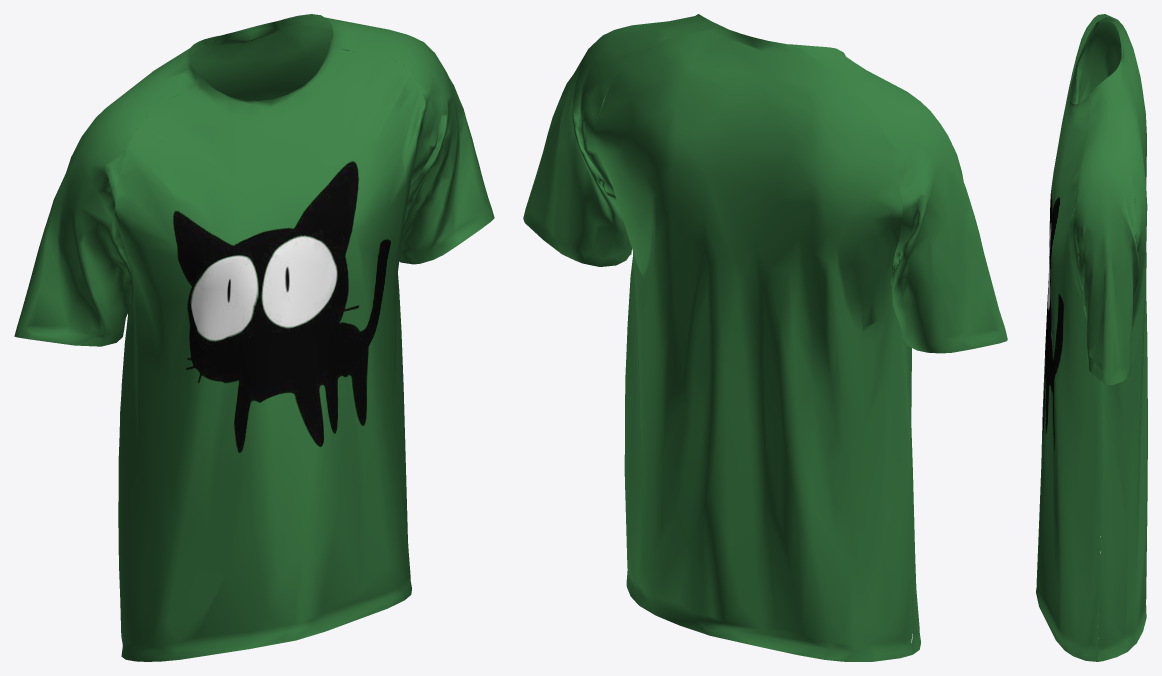
Rendered from Shirt hanger 3.fbx.
3 views of the same model, side by side, from view 1: azimuth 30°, elevation 25°; view 2: azimuth 150°, elevation 25°; view 3: azimuth 270°, elevation 25° (orthographic). The views are drawn at different scales.
Parts seen in each view (by area): view 1: Shirt hanger 3; view 2: Shirt hanger 3; view 3: Shirt hanger 3.
Boxes of the visible parts, x1=… form: Shirt hanger 3: x1=14, y1=14, x2=494, y2=661; Shirt hanger 3: x1=523, y1=14, x2=1007, y2=661; Shirt hanger 3: x1=1036, y1=14, x2=1147, y2=661.
Bounding box in the file's own units: 61.8 × 73.1 × 13.32.
Materials: 1 (1 with a texture image).
